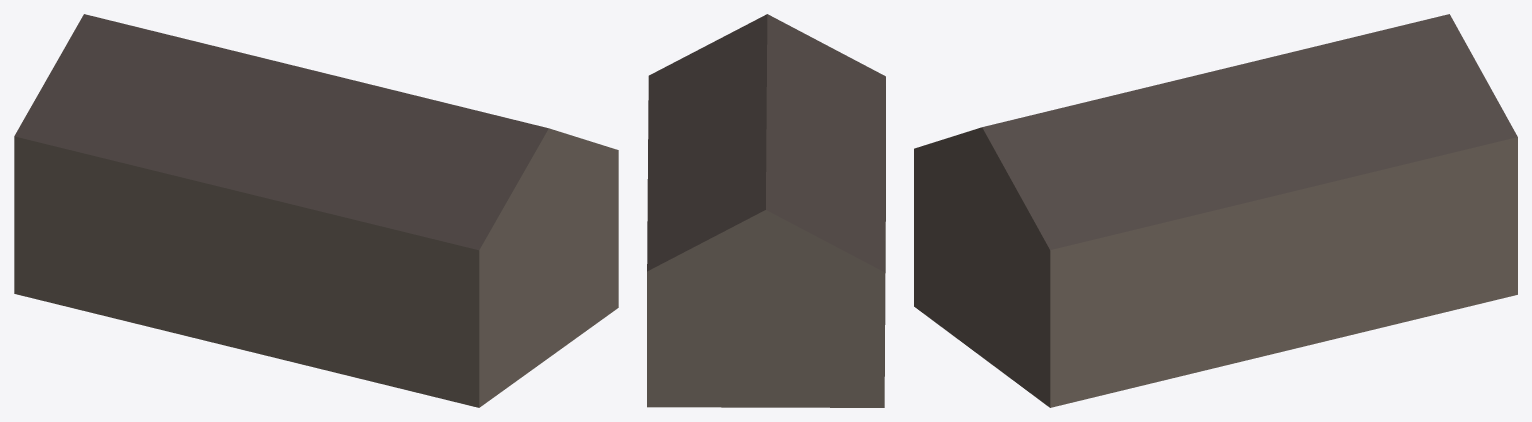
3 renders of one model, left to right at view 1: azimuth 30°, elevation 25°; view 2: azimuth 150°, elevation 25°; view 3: azimuth 270°, elevation 25°, orthographic. The views are drawn at different scales.
Parts seen in each view (by area): view 1: HP-w369317562; view 2: HP-w369317562; view 3: HP-w369317562.
Part boxes in pixels (x1,y1,x2,y2): HP-w369317562: (14,14,618,407); HP-w369317562: (647,14,885,407); HP-w369317562: (914,14,1517,407).
Bounding box in the file's own units: 17.51 × 8.75 × 20.81.
